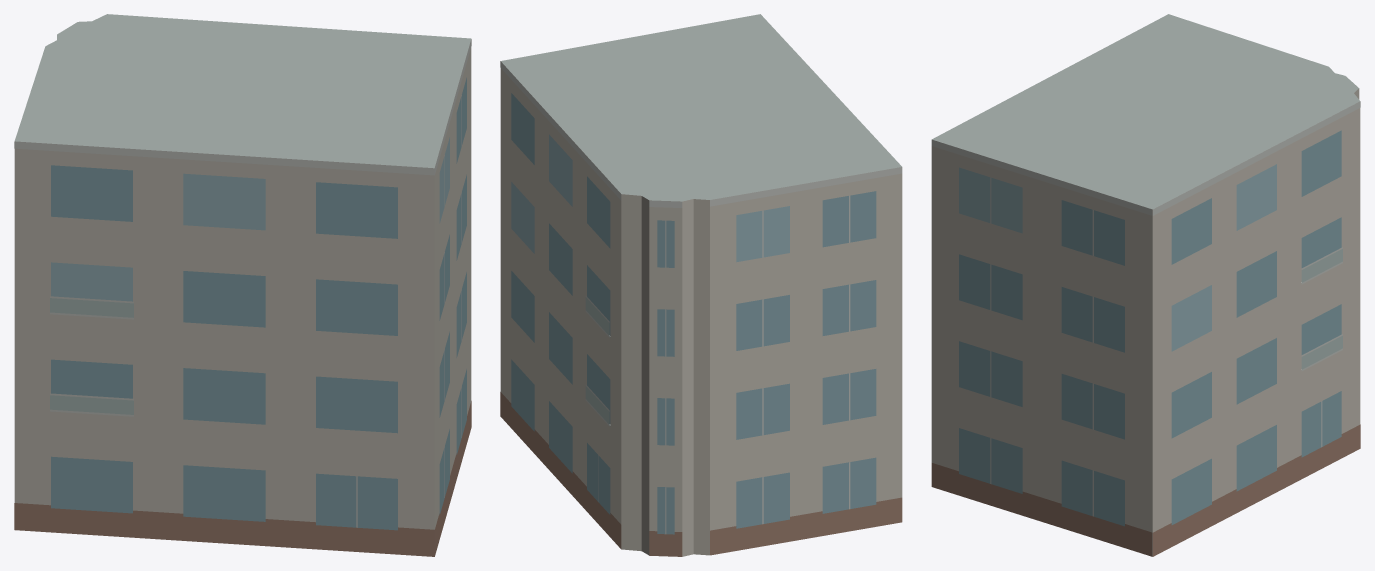
The model's file is survey-upis-32620308.glb.
The picture shows the model from 3 angles, left to right: view 1: azimuth 30°, elevation 25°; view 2: azimuth 150°, elevation 25°; view 3: azimuth 270°, elevation 25°; orthographic projection. The views are drawn at different scales.
Visible parts, largest first — view 1: survey-upis-32620308.tmp; view 2: survey-upis-32620308.tmp; view 3: survey-upis-32620308.tmp.
Part boxes in pixels (x1,y1,x2,y2): survey-upis-32620308.tmp: (14,14,471,556); survey-upis-32620308.tmp: (500,14,902,556); survey-upis-32620308.tmp: (931,14,1360,556).
Size of the model in its own units: 15.82 by 13.1 by 14.66.
